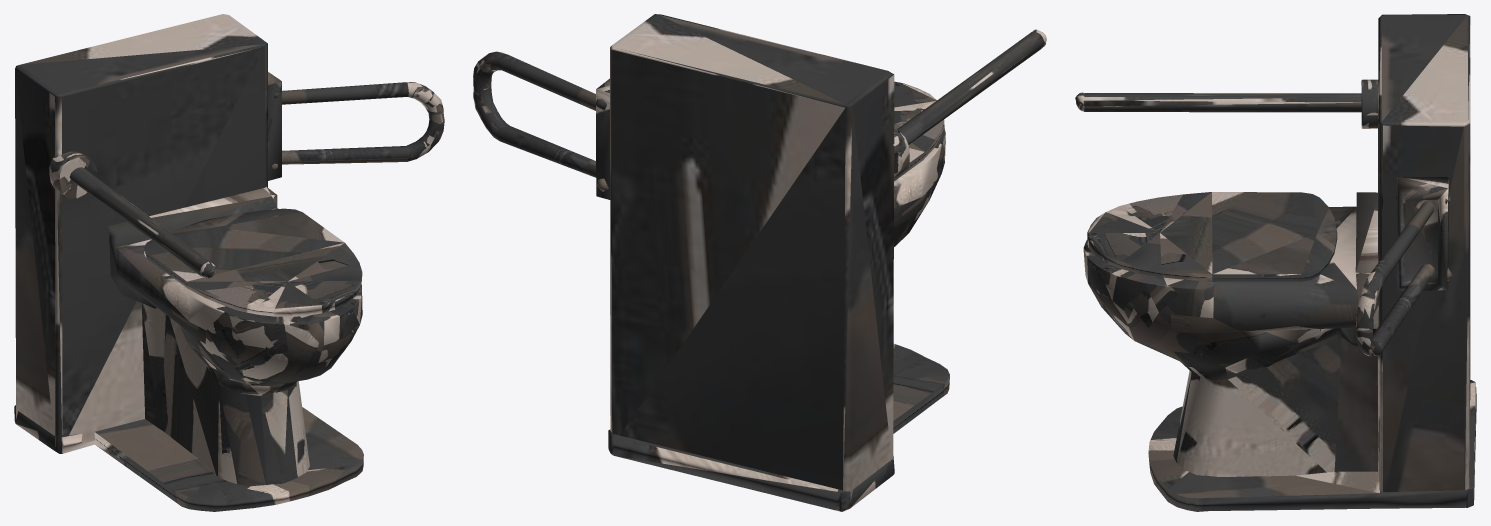
File: Toilet.fbx
3 renders of one model, left to right at view 1: azimuth 30°, elevation 25°; view 2: azimuth 150°, elevation 25°; view 3: azimuth 270°, elevation 25°, orthographic. The views are drawn at different scales.
Visible parts, largest first — view 1: PROP_Toilet; view 2: PROP_Toilet; view 3: PROP_Toilet.
Boxes of the visible parts, left/top/right/bottom form: PROP_Toilet: left=14, top=14, right=444, bottom=511; PROP_Toilet: left=473, top=14, right=1046, bottom=511; PROP_Toilet: left=1075, top=14, right=1476, bottom=511.
Size of the model in its own units: 105 by 94 by 88.87.
